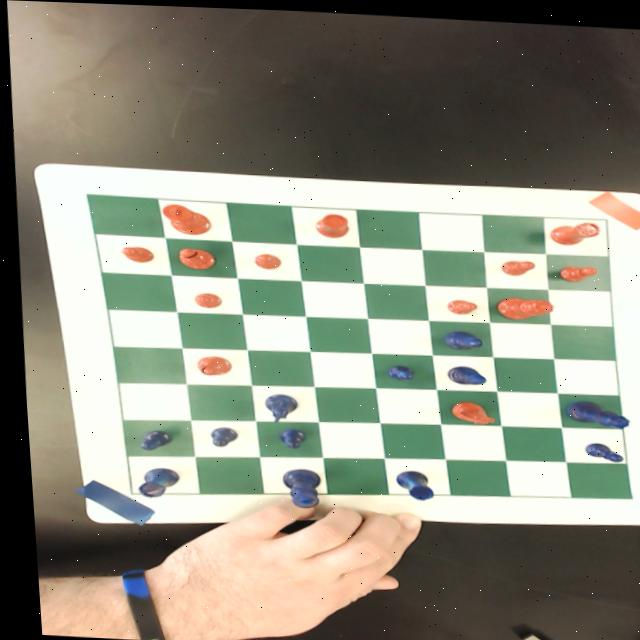B: (438, 326, 479, 348), (439, 362, 480, 382)
K: (273, 465, 316, 505)
N: (257, 391, 294, 421)
P: (130, 427, 167, 450), (577, 438, 617, 458), (202, 424, 232, 447), (271, 426, 301, 448), (380, 361, 409, 378)
Q: (559, 395, 624, 425)
R: (129, 466, 173, 498), (388, 466, 426, 498)
b: (171, 245, 210, 268), (190, 353, 226, 375)
k: (156, 201, 209, 234)
n: (442, 397, 489, 422)
p: (554, 260, 594, 278), (115, 244, 152, 262), (496, 255, 532, 273), (441, 295, 474, 312), (188, 290, 218, 307), (249, 251, 278, 268)
q: (491, 292, 550, 317)
r: (545, 215, 598, 243), (308, 208, 346, 237)
